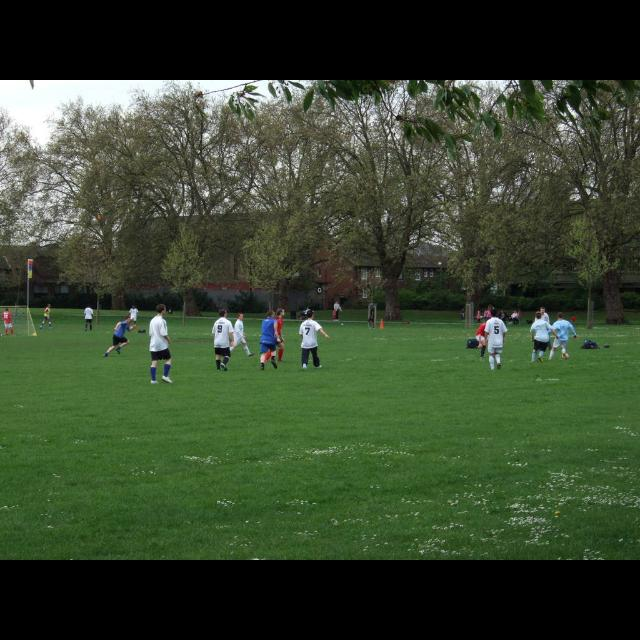Football: (561, 352, 567, 358)
